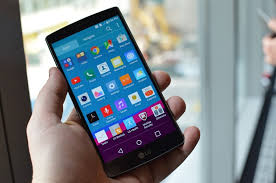lg: (43, 3, 183, 183)
